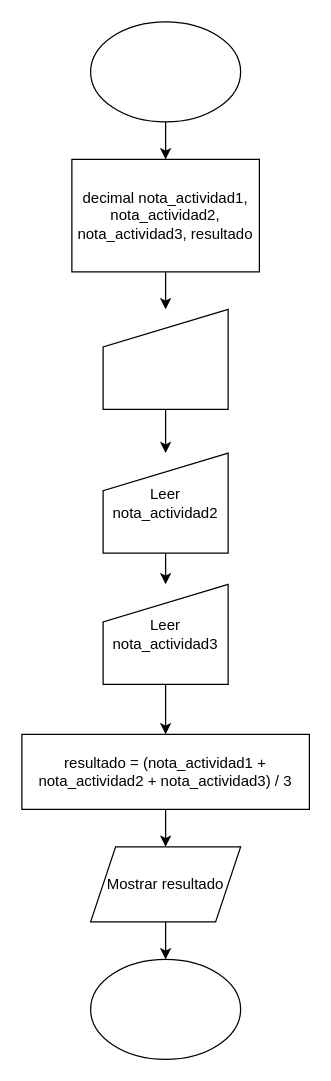
Some shapes in this 331 by 1081 pixel diagram are drawn without their labels. The centre of each missing label's shape, as x and y in pixels:
"FIN" goes at point 165,1008.
"INICIO" goes at point 165,71.
"Leer nota_actividad1" goes at point 165,358.
